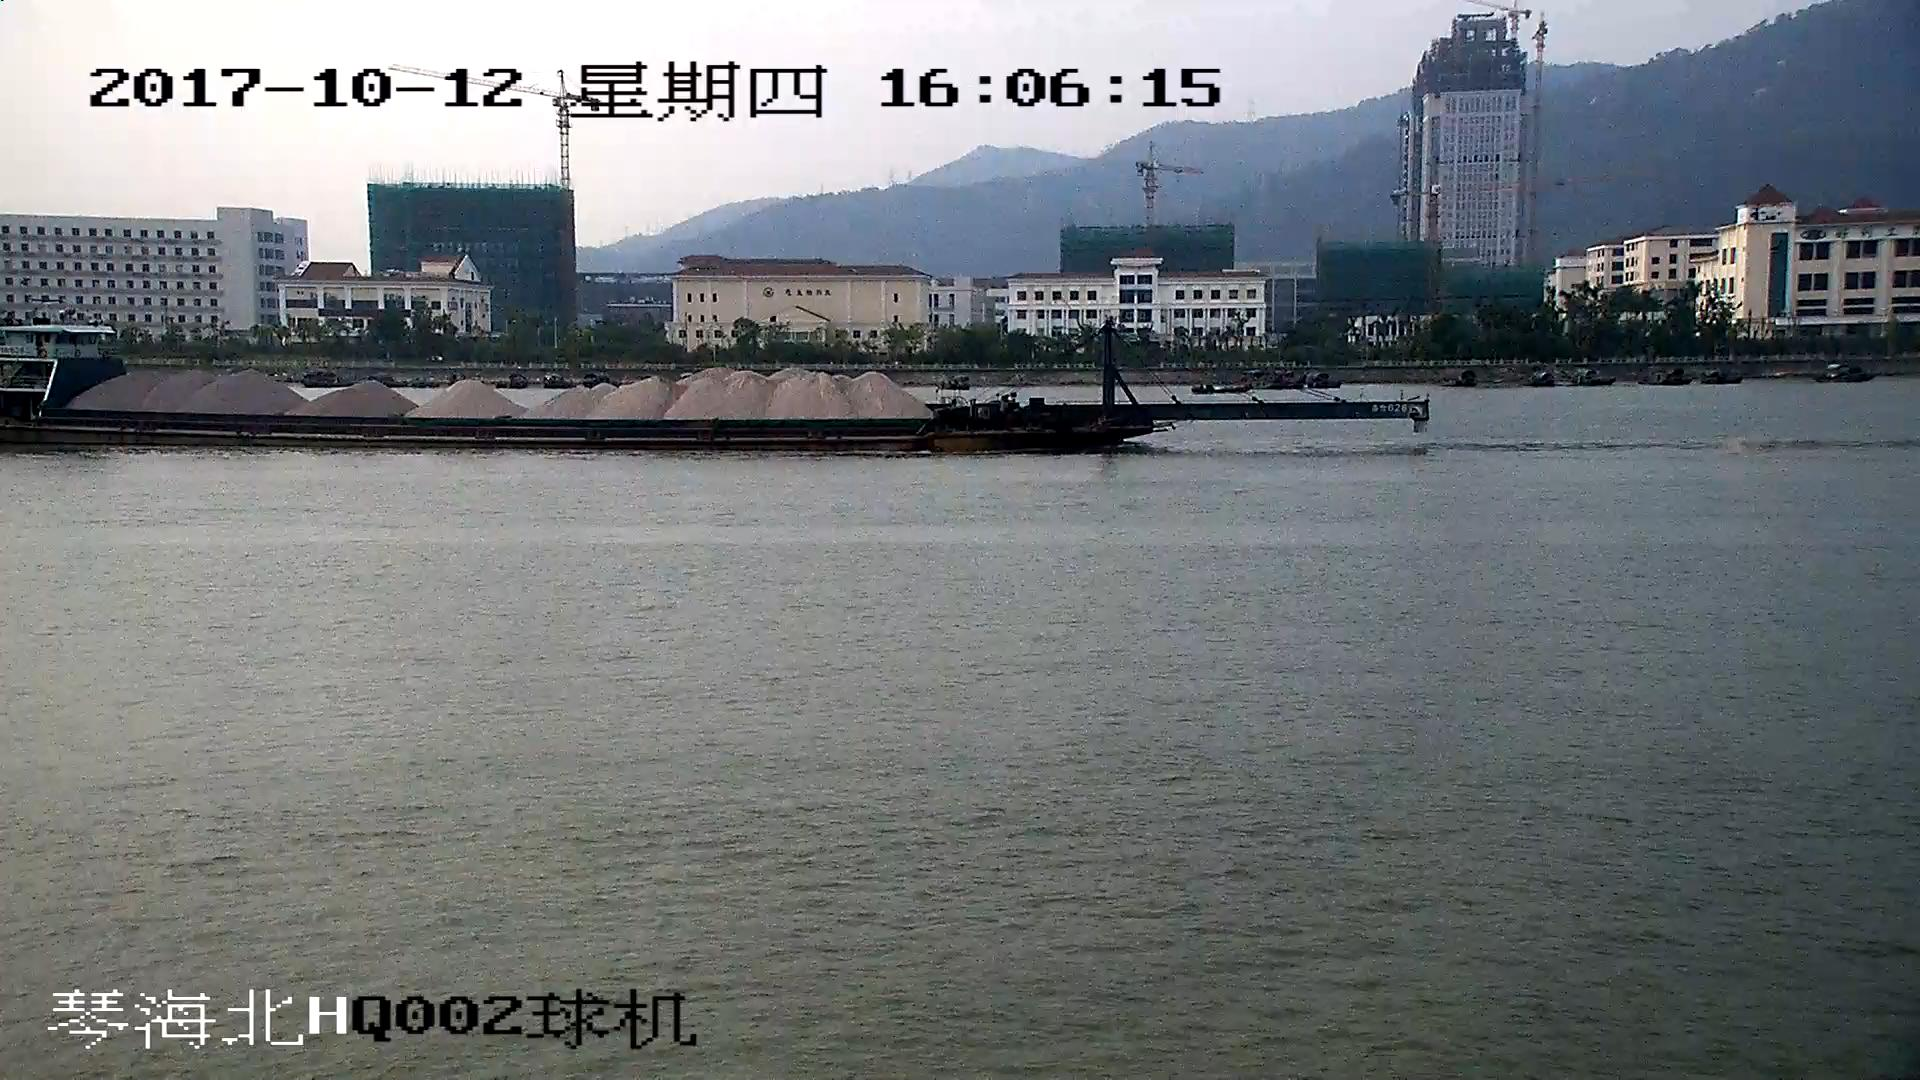ore carrier: (1, 320, 1429, 454)
